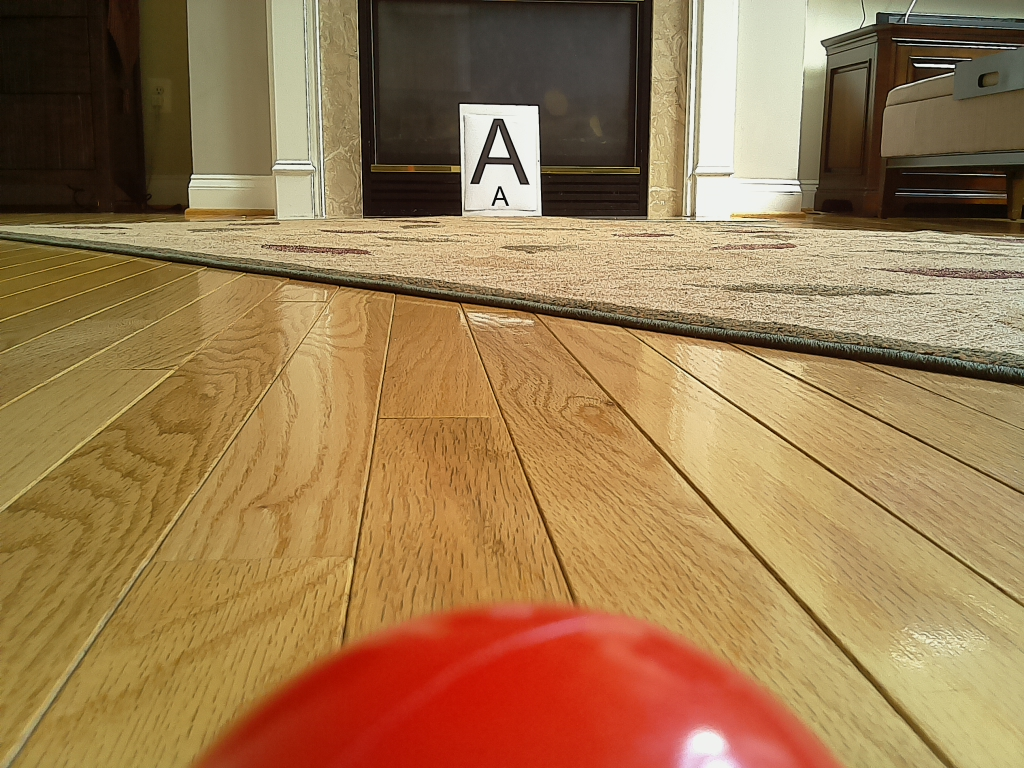letter: (470, 118, 531, 185)
